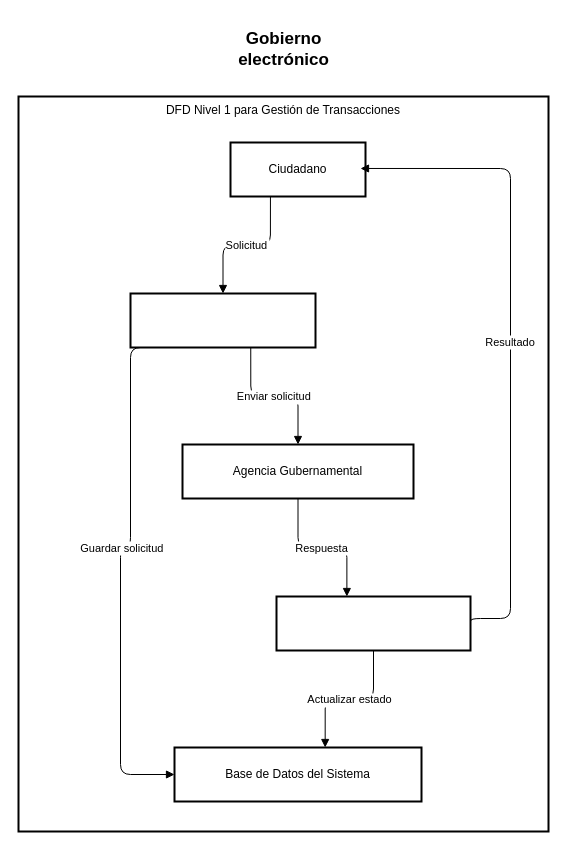
The diagram is 566 pixels wide and 850 high, and some of its shapes have lost their labels. Each missing label, with the centre of its shape:
Manejar Respuesta: (373,623)
Manejar Solicitud: (222,320)
